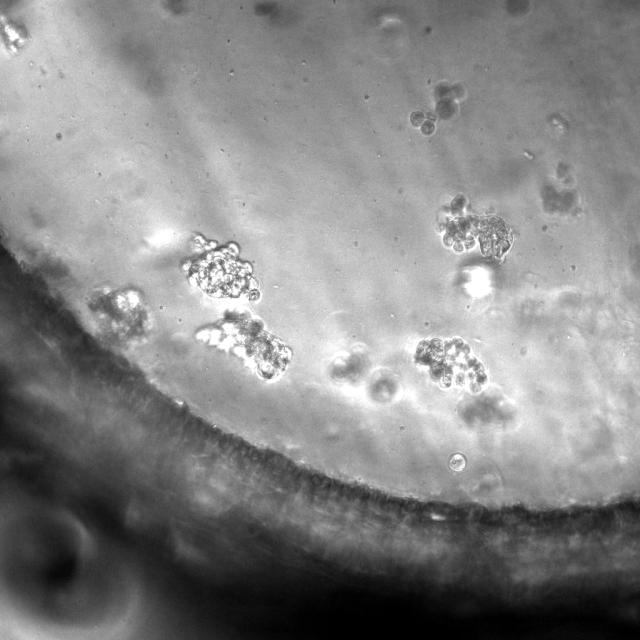organoid: (196, 311, 292, 379), (182, 235, 259, 301), (438, 194, 512, 261), (415, 336, 488, 394), (329, 344, 399, 401), (409, 81, 466, 134), (88, 289, 148, 339), (459, 386, 518, 427), (540, 162, 581, 215), (0, 13, 29, 54), (448, 452, 466, 472)
